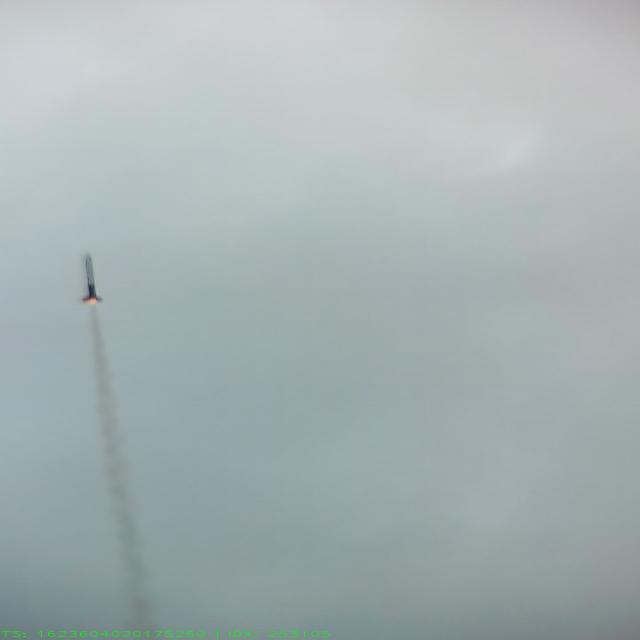Rocket: (81, 248, 103, 302)
